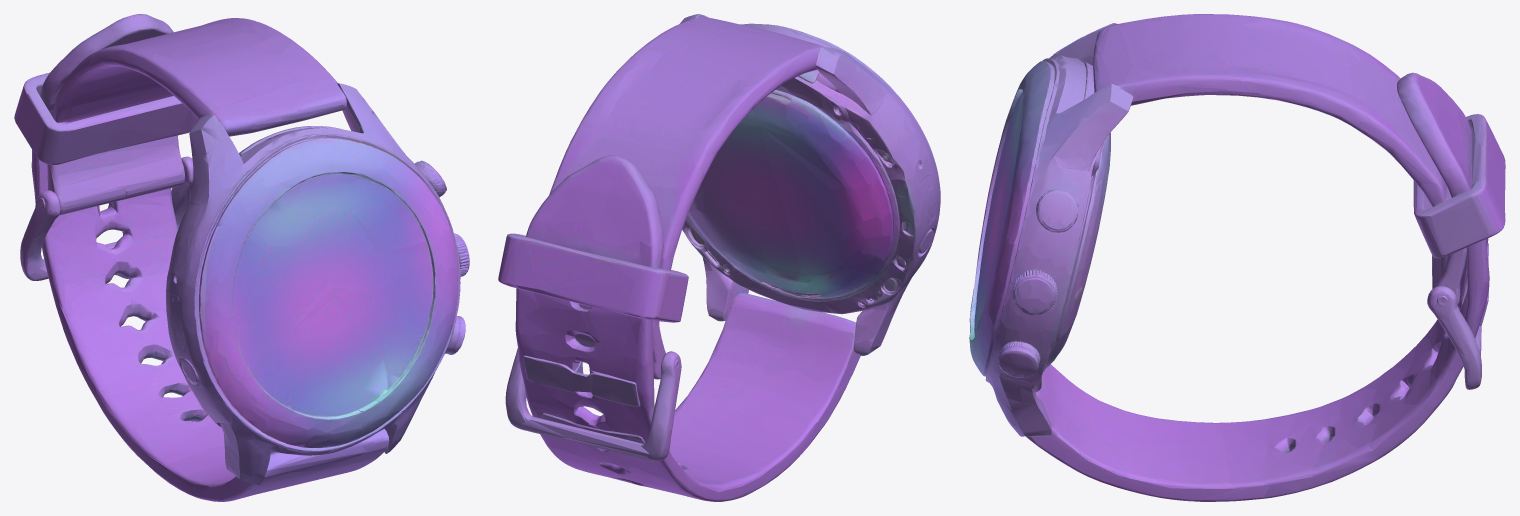
Rendered from watch.glb.
3 views of the same model, side by side, from view 1: azimuth 30°, elevation 25°; view 2: azimuth 150°, elevation 25°; view 3: azimuth 270°, elevation 25° (orthographic). The views are drawn at different scales.
Size of the model in its own units: 1.2 by 1.67 by 1.9.
Materials: 1 (1 with a texture image).
